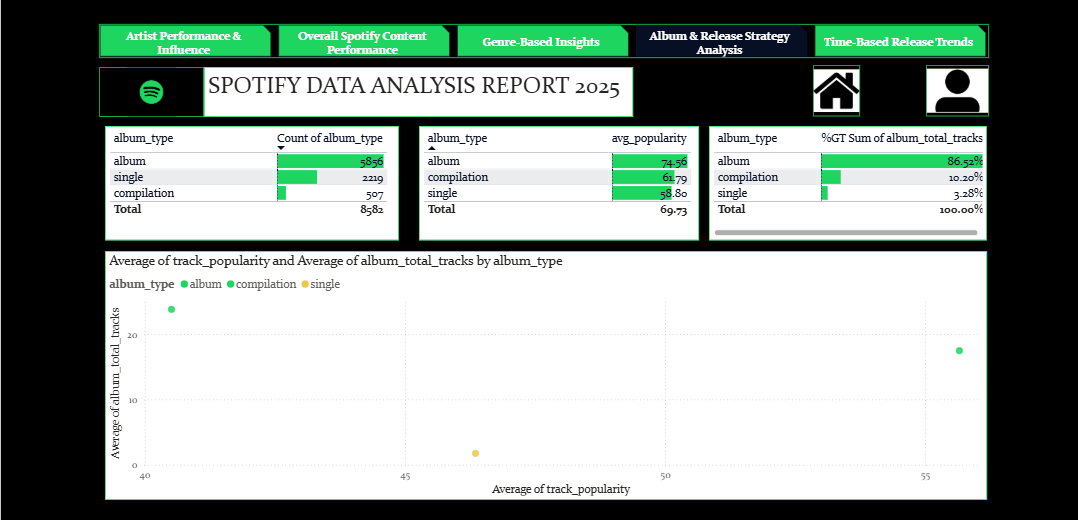

The dashboard page shown, as its layout file describes it:
{"tool":"powerbi","page":{"name":"Album & Release Strategy Analysis","canvas":[1280,720],"ordinal":3},"visuals":[{"type":"tableEx","fields":{"Values":["spotify_data clean.album_type","CountNonNull(spotify_data clean.album_type)"]},"box":[38.4,174.3,406.2,157.8],"z":0},{"type":"tableEx","fields":{"Values":["spotify_data clean.album_type","spotify_data clean.avg_popularity"]},"box":[472,174.3,387,157.8],"z":1000},{"type":"tableEx","fields":{"Values":["spotify_data clean.album_type","Sum(spotify_data clean.album_total_tracks)"]},"box":[872.7,174.3,384.2,157.8],"z":2000},{"type":"scatterChart","fields":{"Series":["spotify_data clean.album_type"],"X":["Avg(spotify_data clean.track_popularity)"],"Y":["Avg(spotify_data clean.album_total_tracks)"]},"box":[38.4,347.2,1218.5,344.4],"z":3000},{"type":"textbox","box":[175.6,91.9,592.8,68.6],"z":4000},{"type":"image","box":[30.2,91.9,145.5,68.6],"z":5000},{"type":"pageNavigator","box":[30.2,32.9,1229.5,46.7],"z":6000},{"type":"image","box":[1017.2,89.6,65,71.2],"z":7000},{"type":"image","box":[1173,89.6,87.1,71.2],"z":8000}]}

Visuals, with their boxes in screenshot pixels (x1, y1, x2, y2):
tableEx - spotify_data clean.album_type x CountNonNull(spotify_data clean.album_type): BBox(117, 127, 406, 239)
tableEx - spotify_data clean.album_type x spotify_data clean.avg_popularity: BBox(426, 127, 701, 239)
tableEx - spotify_data clean.album_type x Sum(spotify_data clean.album_total_tracks): BBox(711, 127, 984, 239)
scatterChart - spotify_data clean.album_type x Avg(spotify_data clean.track_popularity): BBox(117, 250, 984, 495)
textbox: BBox(215, 68, 636, 117)
image: BBox(111, 68, 215, 117)
pageNavigator: BBox(111, 26, 986, 59)
image: BBox(813, 67, 860, 117)
image: BBox(924, 67, 986, 117)
